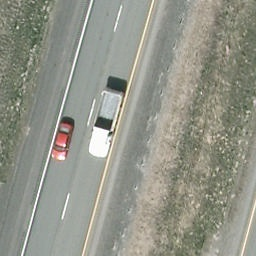car: (49, 123, 73, 164)
truck: (86, 88, 125, 159)
